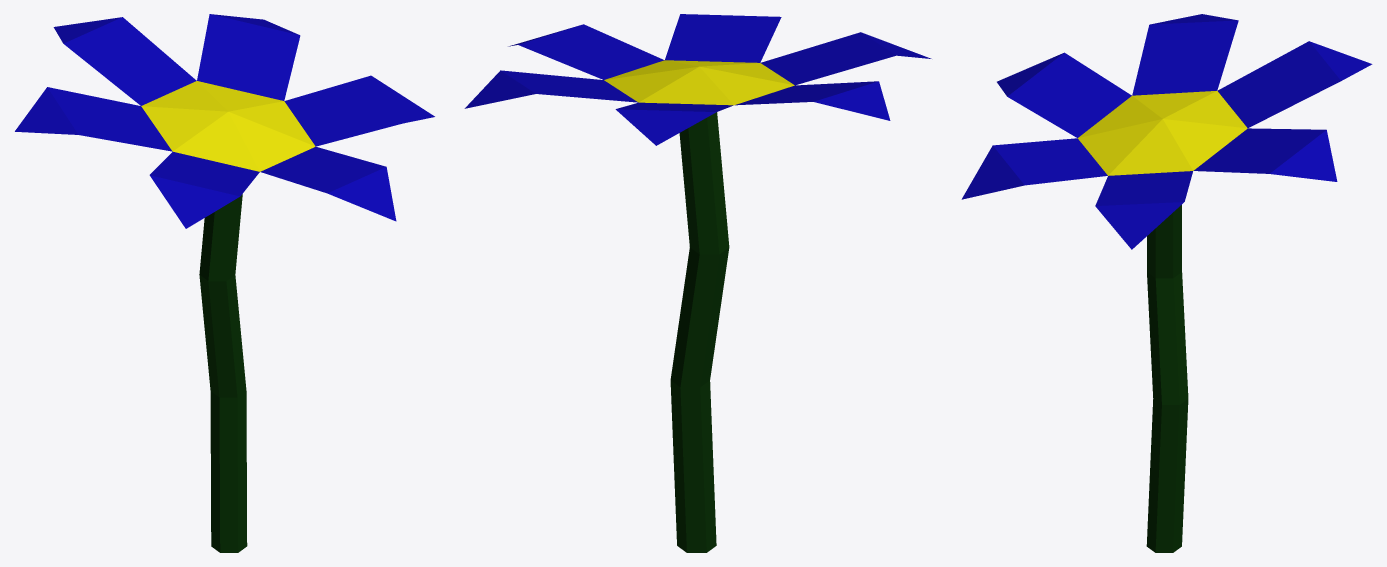
The model's file is plant_flower_blue.glb.
3 renders of one model, left to right at view 1: azimuth 30°, elevation 25°; view 2: azimuth 150°, elevation 25°; view 3: azimuth 270°, elevation 25°, orthographic. The views are drawn at different scales.
Visible parts, largest first — view 1: flower-blue; view 2: flower-blue; view 3: flower-blue.
Boxes of the visible parts, <box> form: flower-blue: <box>15,14,434,552</box>; flower-blue: <box>464,14,931,552</box>; flower-blue: <box>961,14,1372,552</box>.
Size of the model in its own units: 0.3137 by 0.3664 by 0.296.
